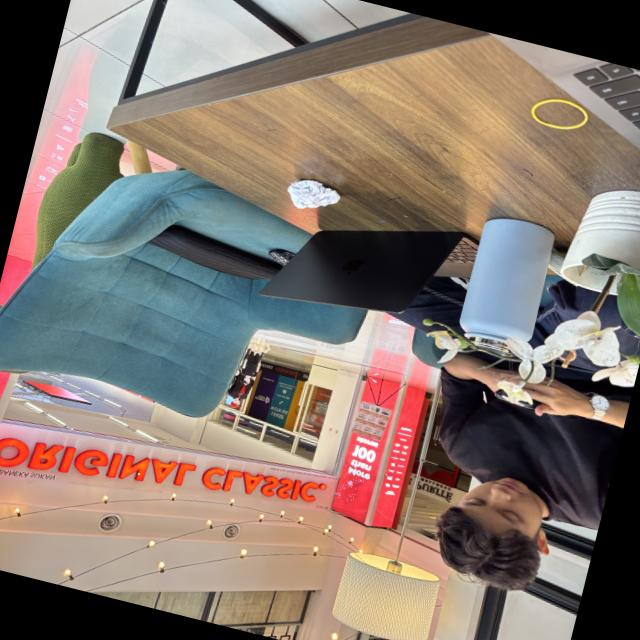crumpled_paper: (278, 170, 348, 222)
